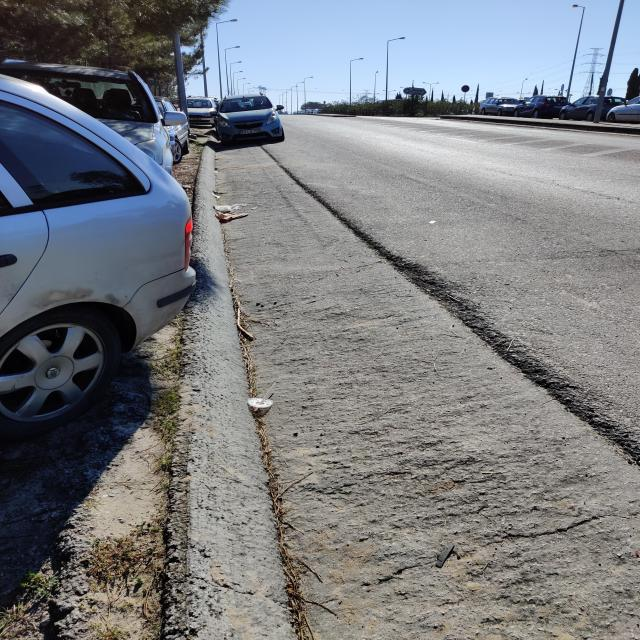litter: (214, 204, 274, 412)
